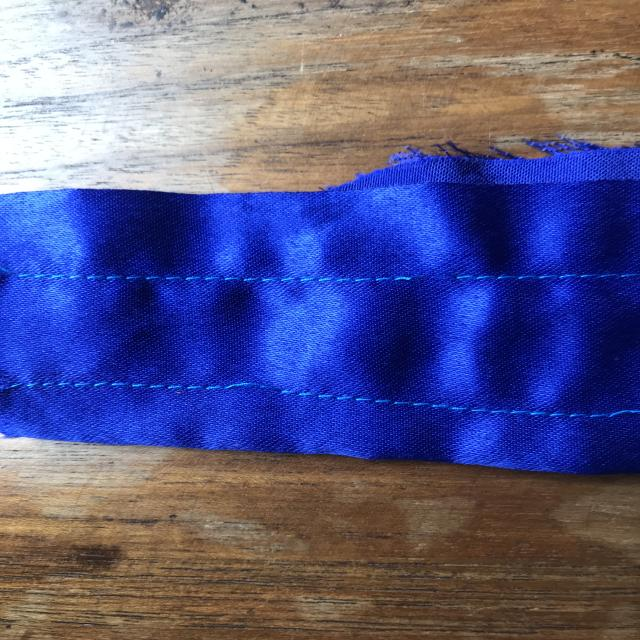broken: (379, 256, 497, 302)
good: (401, 396, 541, 434)
skip: (200, 364, 303, 410)
